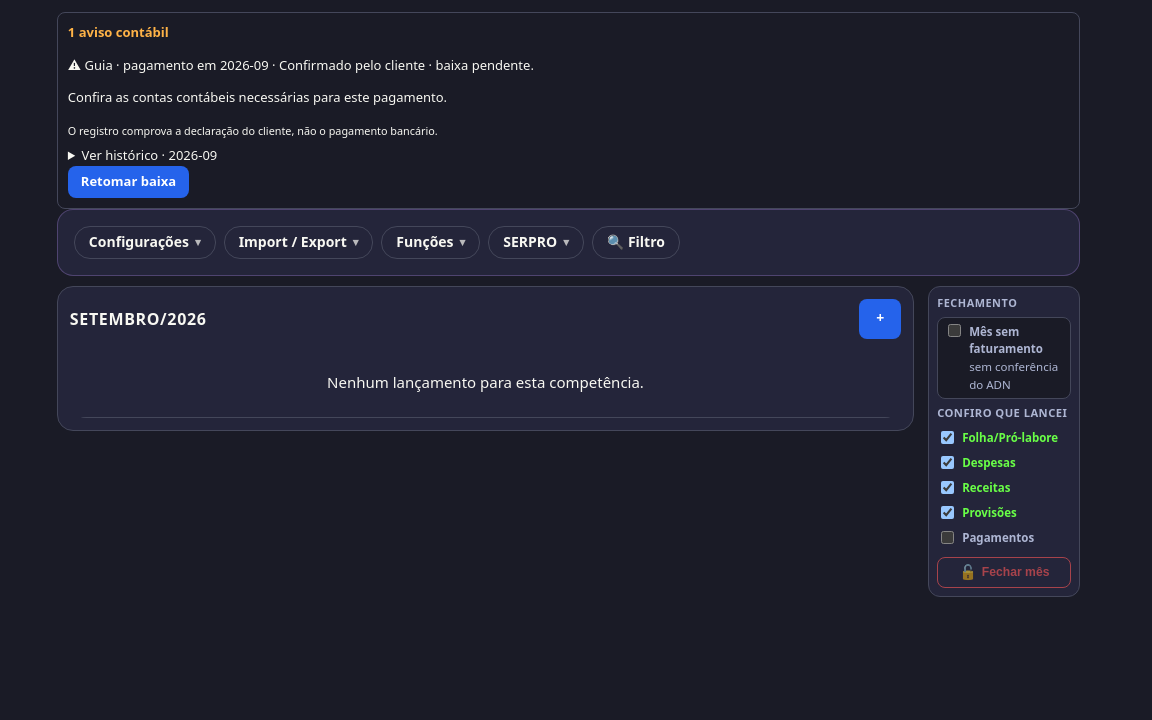
Test case: retomar pela aba recarrega tabela, total e checklist após baixa concluída
Expected: the checkbox labelled "Pagamentos" is not checked, [941,531,954,544]
Click the button "Retomar baixa" at coordinates (128, 182), box [68,166,189,198]
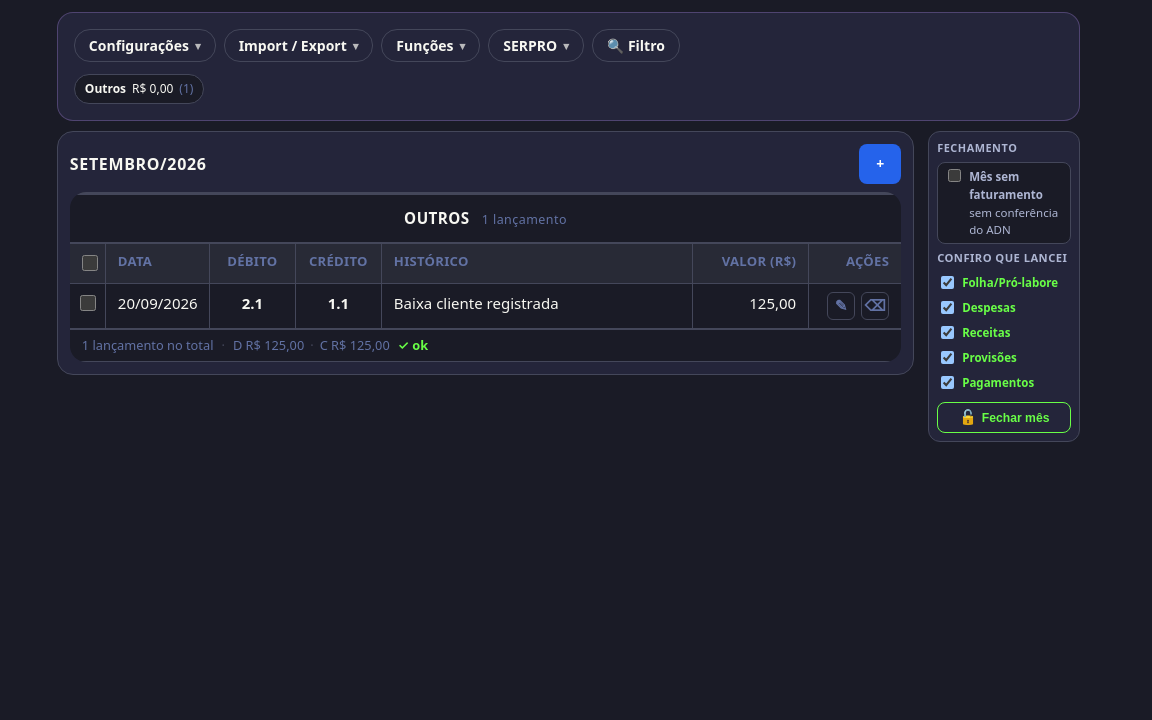
Expected: the text "Baixa cliente registrada" is shown, [394,293,558,313]
Expected: the checkbox labelled "Pagamentos" is checked, [941,376,954,389]
Expected: the text "125,00" is shown, [693,284,809,329]
